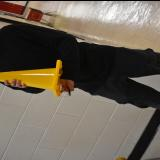cone: (0, 58, 62, 97)
